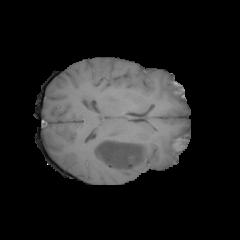glioma: (92, 70, 156, 171)
